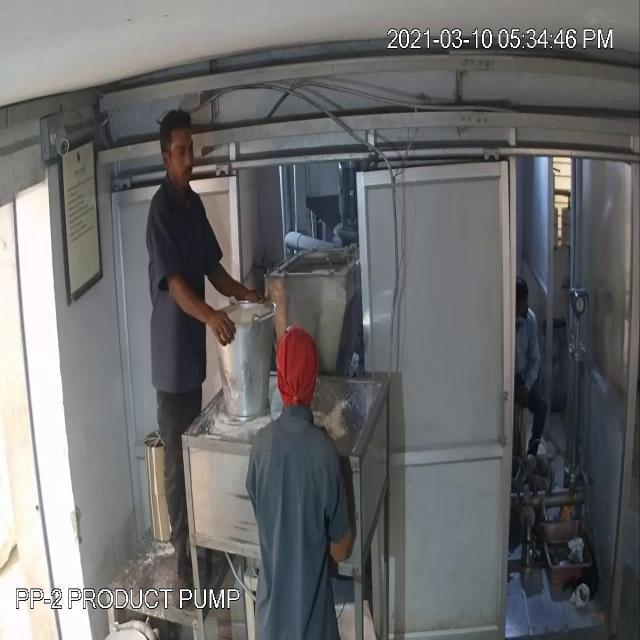No_Gloves: (59, 64, 234, 312)
